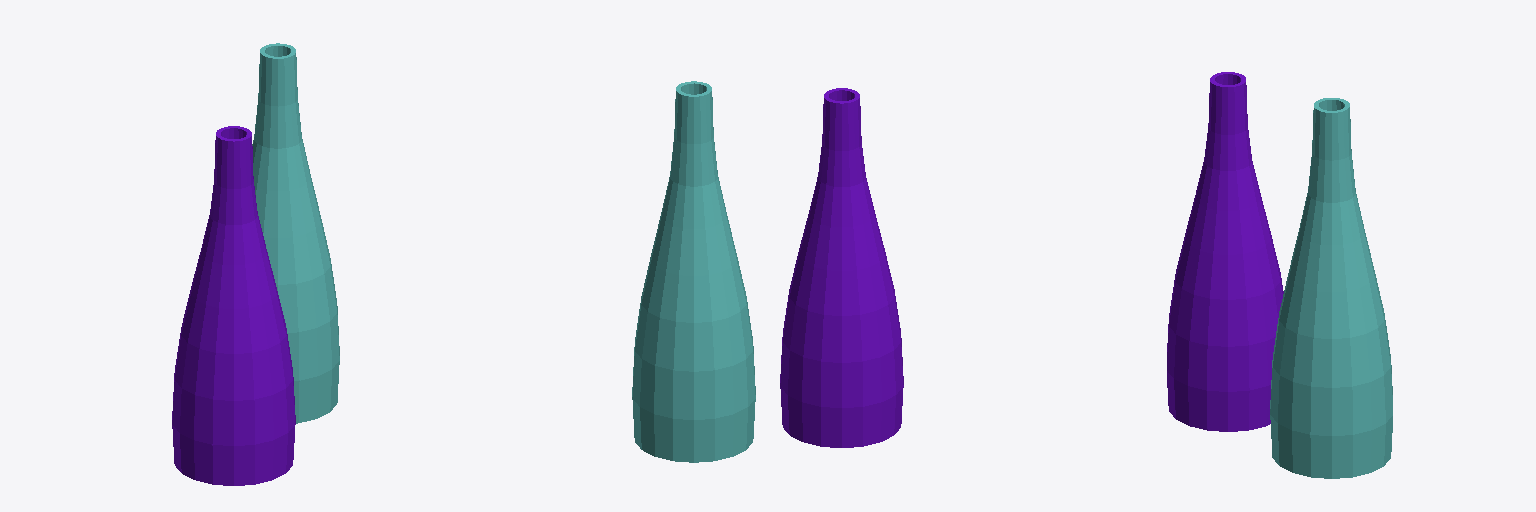
The model's file is bottle.obj.
3 views of the same model, side by side, from view 1: azimuth 30°, elevation 25°; view 2: azimuth 150°, elevation 25°; view 3: azimuth 270°, elevation 25° (orthographic).
Visible parts, largest first — view 1: ac00303; view 2: ac00303; view 3: ac00303.
Part boxes in pixels (x1,y1,x2,y2): ac00303: (172,43,339,485); ac00303: (632,81,903,462); ac00303: (1167,72,1392,478).
Size of the model in its own units: 168 by 273 by 161.